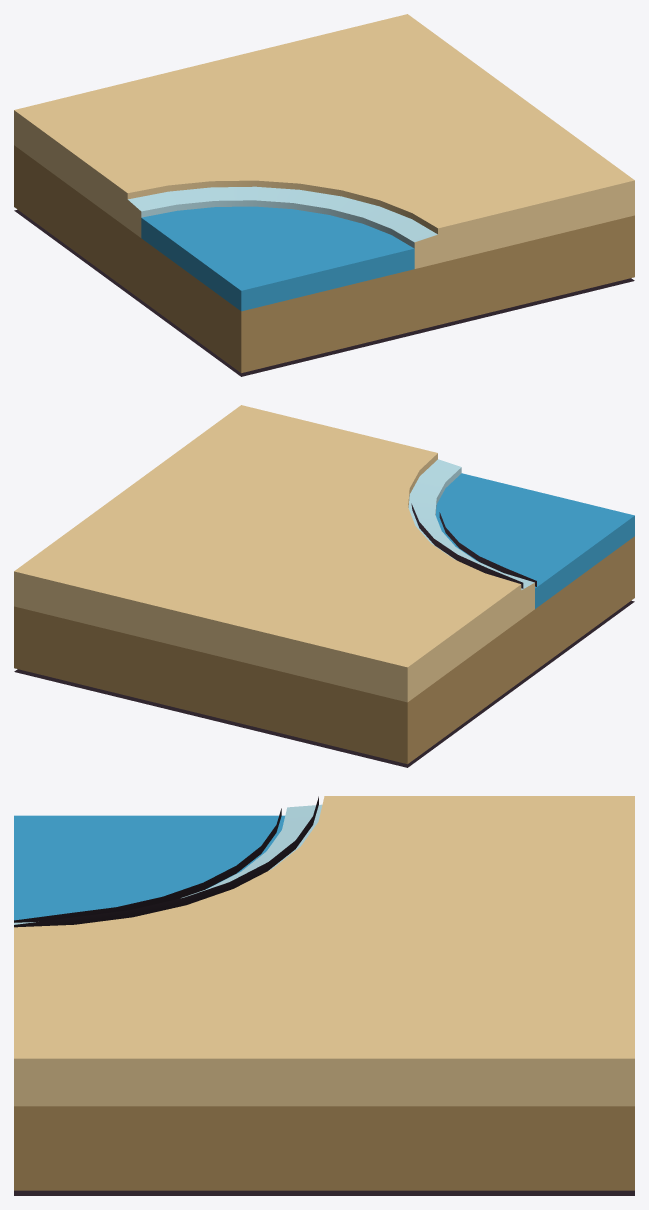
The model's file is SM_Island_Tile_ShoreCornerInner.fbx.
The picture shows the model from 3 angles, top to bottom: view 1: azimuth 30°, elevation 25°; view 2: azimuth 150°, elevation 25°; view 3: azimuth 270°, elevation 25°; orthographic projection. The views are drawn at different scales.
Parts seen in each view (by area): view 1: SM_Island_Tile_ShoreCornerInner, SM_Island_Tile_ShoreCornerInner_Outline; view 2: SM_Island_Tile_ShoreCornerInner, SM_Island_Tile_ShoreCornerInner_Outline; view 3: SM_Island_Tile_ShoreCornerInner, SM_Island_Tile_ShoreCornerInner_Outline.
Boxes of the visible parts, box(x1,y1,x2,y2) form: SM_Island_Tile_ShoreCornerInner: box(14, 14, 634, 373); SM_Island_Tile_ShoreCornerInner_Outline: box(14, 209, 634, 376); SM_Island_Tile_ShoreCornerInner: box(14, 405, 634, 764); SM_Island_Tile_ShoreCornerInner_Outline: box(14, 503, 634, 767); SM_Island_Tile_ShoreCornerInner: box(14, 796, 634, 1190); SM_Island_Tile_ShoreCornerInner_Outline: box(14, 796, 634, 1195).
Size of the model in its own units: 2 by 0.5094 by 2.
2 materials, 1 textured.
